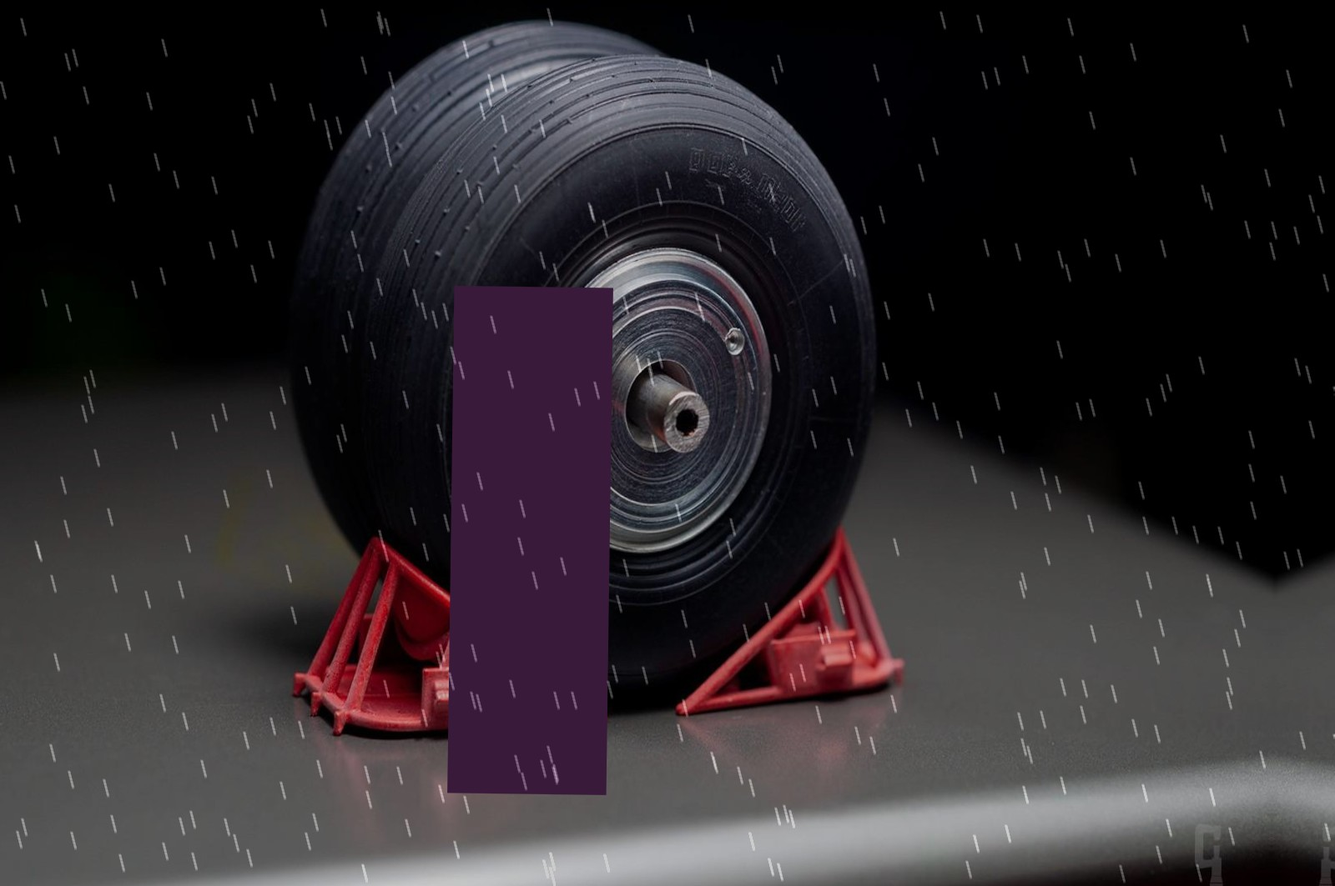chock: (294, 536, 611, 741), (669, 523, 907, 722)
wheel: (352, 49, 882, 723), (287, 18, 717, 661)
